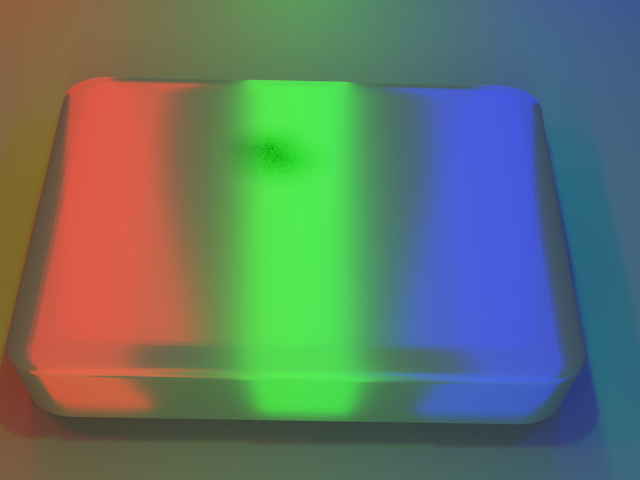stain: (137, 86, 350, 201)
